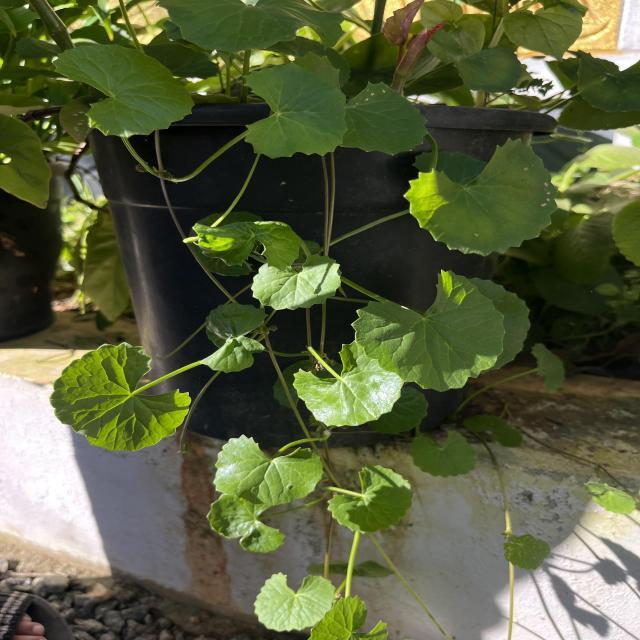Centella asiatica: (348, 266, 508, 394), (400, 135, 560, 261), (46, 338, 195, 454), (49, 41, 198, 140), (238, 58, 350, 162), (289, 337, 407, 430), (210, 432, 328, 508), (338, 78, 430, 158), (248, 250, 344, 312)
